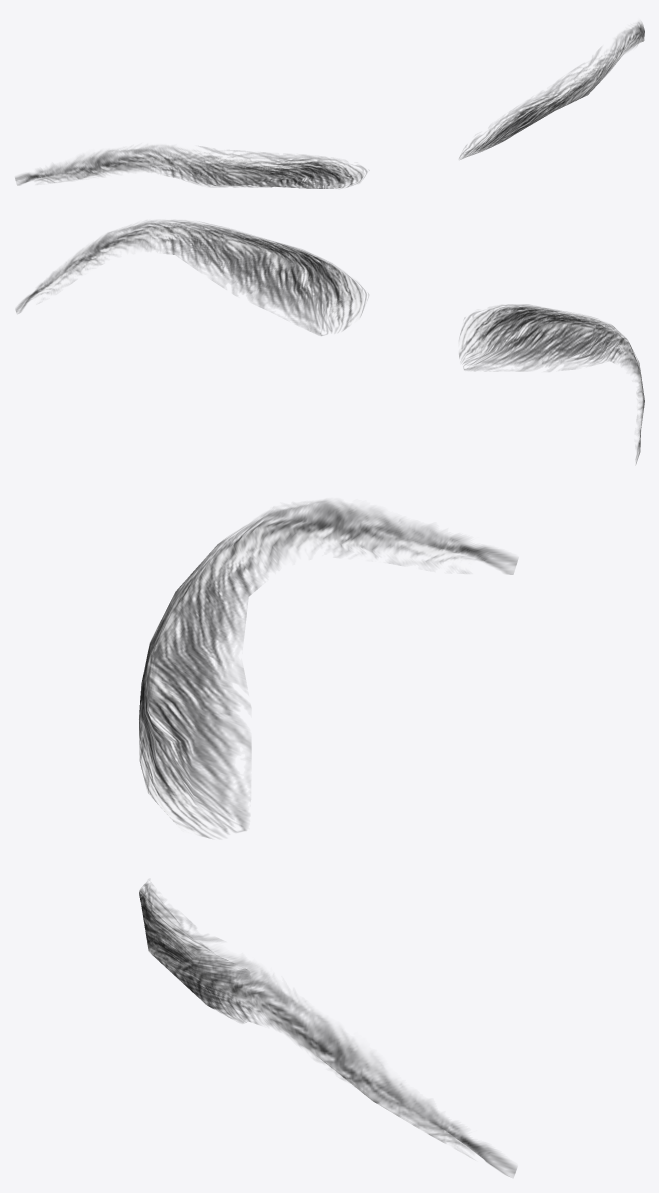
File: brows_eyebrow008.gltf
3 renders of one model, top to bottom at view 1: azimuth 30°, elevation 25°; view 2: azimuth 150°, elevation 25°; view 3: azimuth 270°, elevation 25°, orthographic. The views are drawn at different scales.
Parts seen in each view (by area): view 1: brows_eyebrow008; view 2: brows_eyebrow008; view 3: brows_eyebrow008.
Part boxes in pixels (box(x1,y1,x2,y2)): brows_eyebrow008: box(15, 21, 644, 188); brows_eyebrow008: box(16, 220, 644, 463); brows_eyebrow008: box(139, 500, 517, 1176).
Bounding box in the file's own units: 0.1127 × 0.0142 × 0.0299.
1 material, 1 textured.
